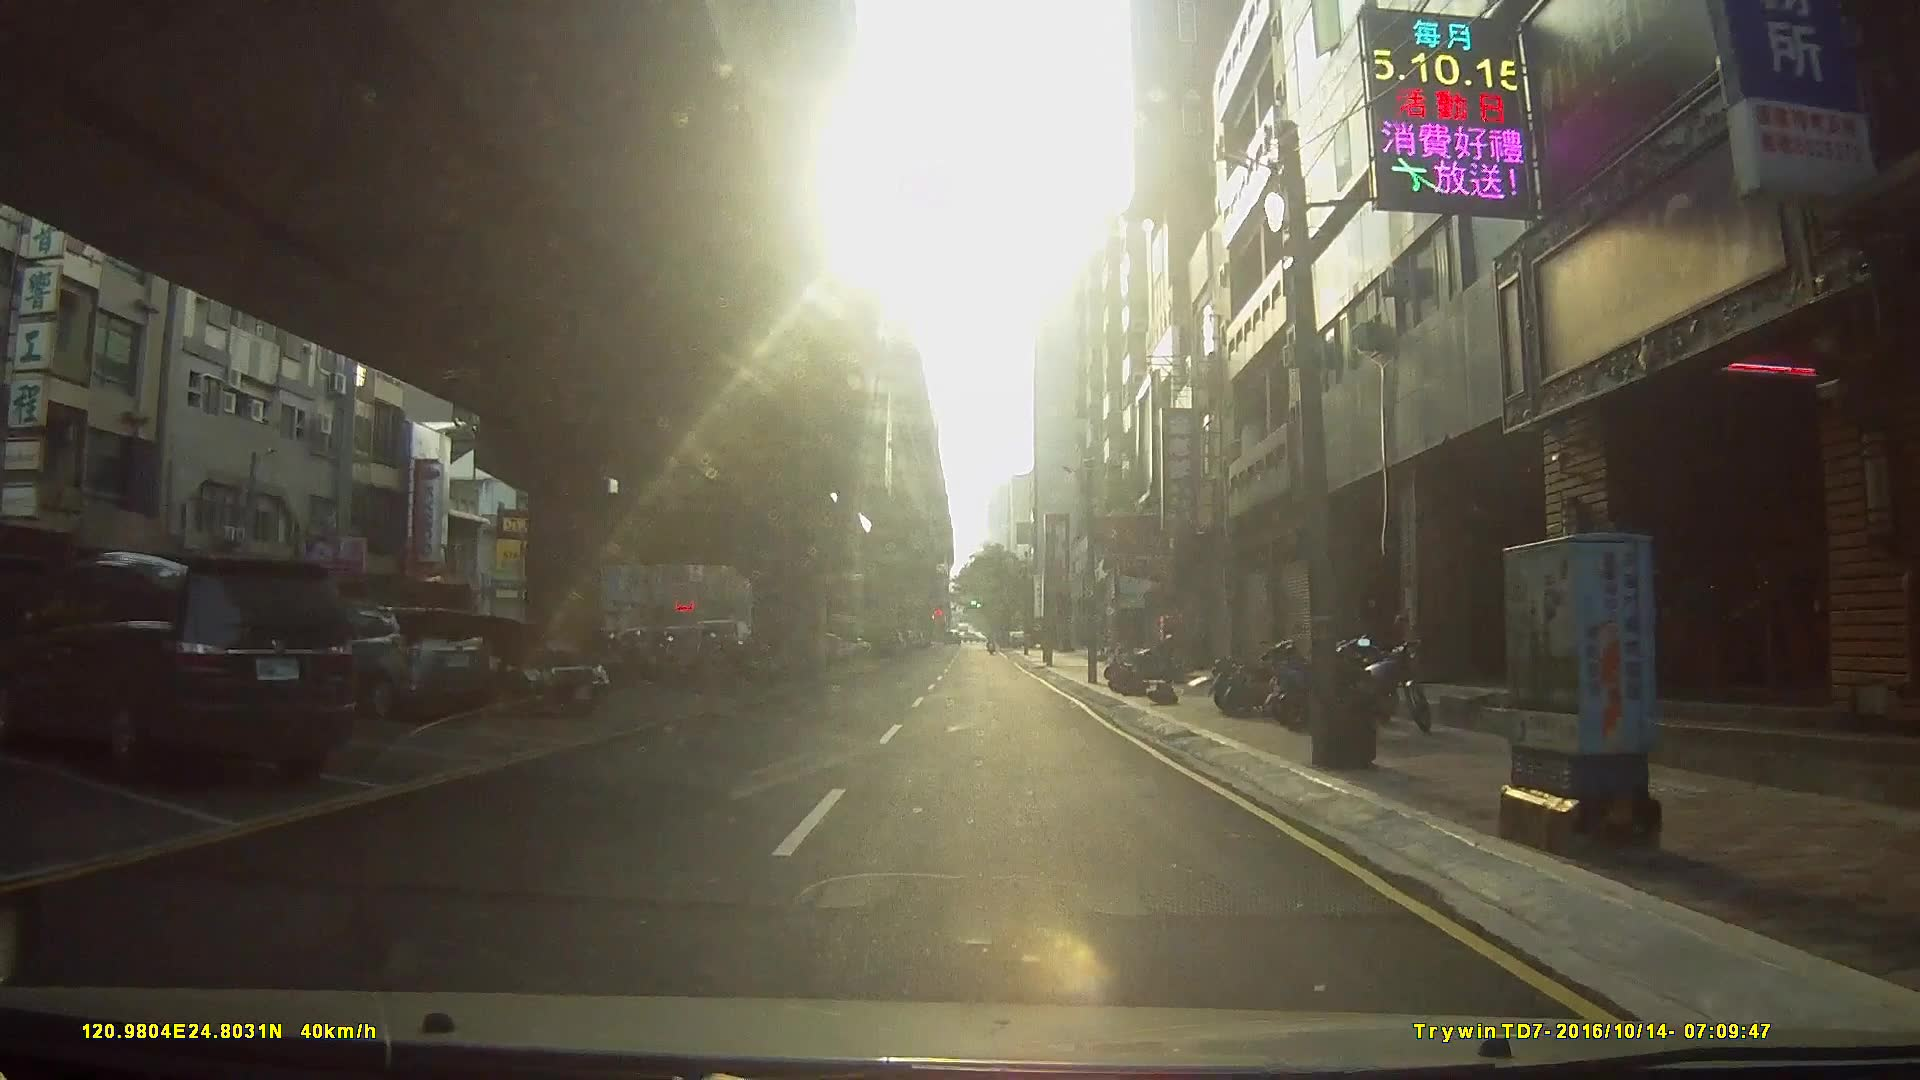vehicle: (0, 547, 359, 781), (285, 604, 492, 717), (382, 616, 608, 715)
